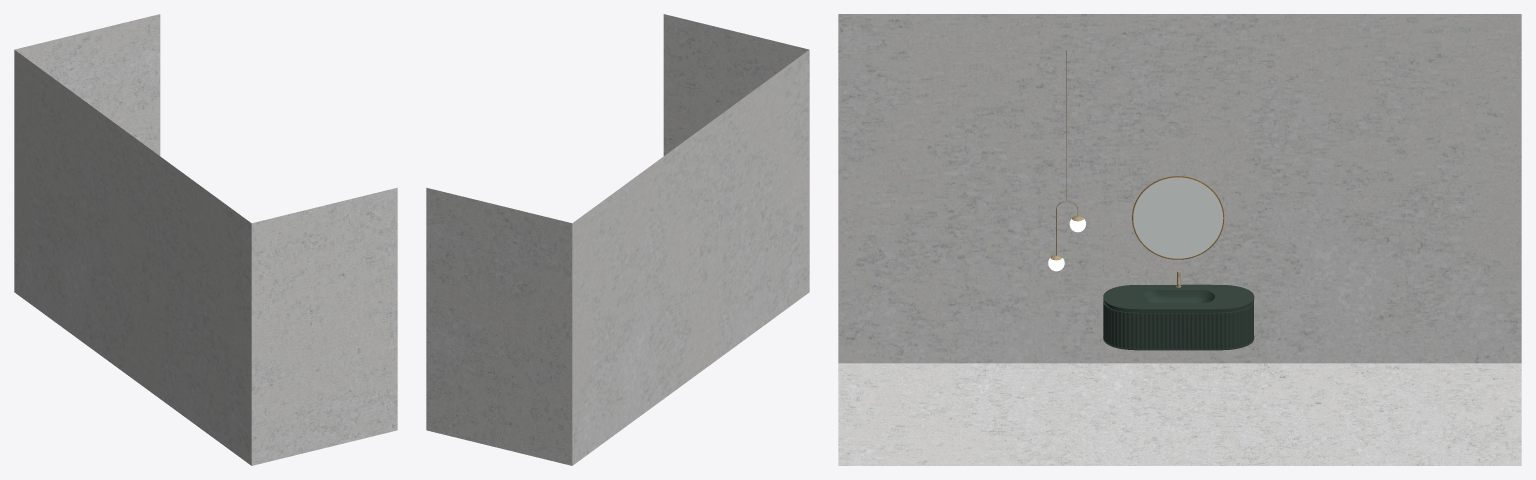
Rendered from mira-3.glb.
3 renders of one model, left to right at view 1: azimuth 30°, elevation 25°; view 2: azimuth 150°, elevation 25°; view 3: azimuth 270°, elevation 25°, orthographic. The views are drawn at different scales.
Parts seen in each view (by area): view 1: Plane.004; view 2: Plane.004; view 3: Plane.004, Cube.013, Circle.002, Sphere.001.
Part boxes in pixels (x1=…): Plane.004: x1=14, y1=14, x2=397, y2=465; Plane.004: x1=426, y1=14, x2=809, y2=465; Plane.004: x1=838, y1=14, x2=1521, y2=465; Cube.013: x1=1103, y1=270, x2=1254, y2=350; Circle.002: x1=1132, y1=176, x2=1224, y2=259; Sphere.001: x1=1048, y1=50, x2=1085, y2=271.
Size of the model in its own units: 12.07 by 19.18 by 33.99.
6 materials, 3 textured.
